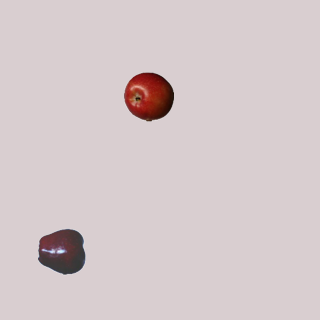Apple Braeburn: (123, 71, 173, 121)
Apple Red Delicious: (37, 226, 87, 276)
